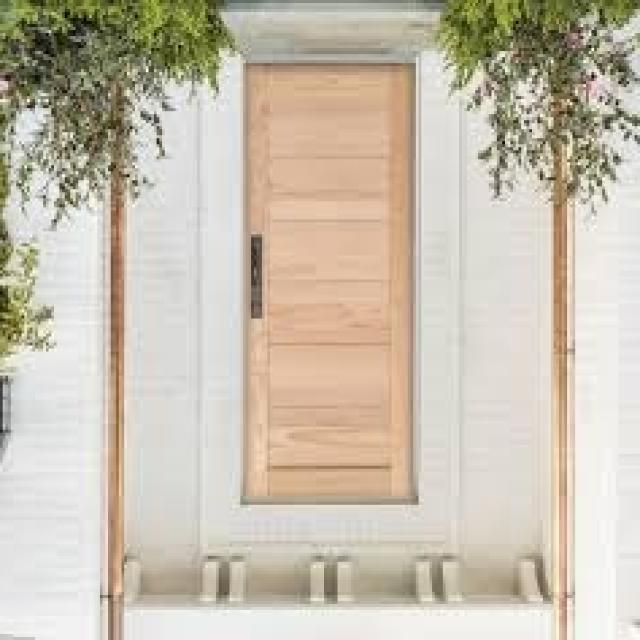door: (243, 60, 419, 505)
